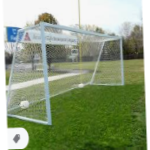goals: (4, 21, 124, 125)
